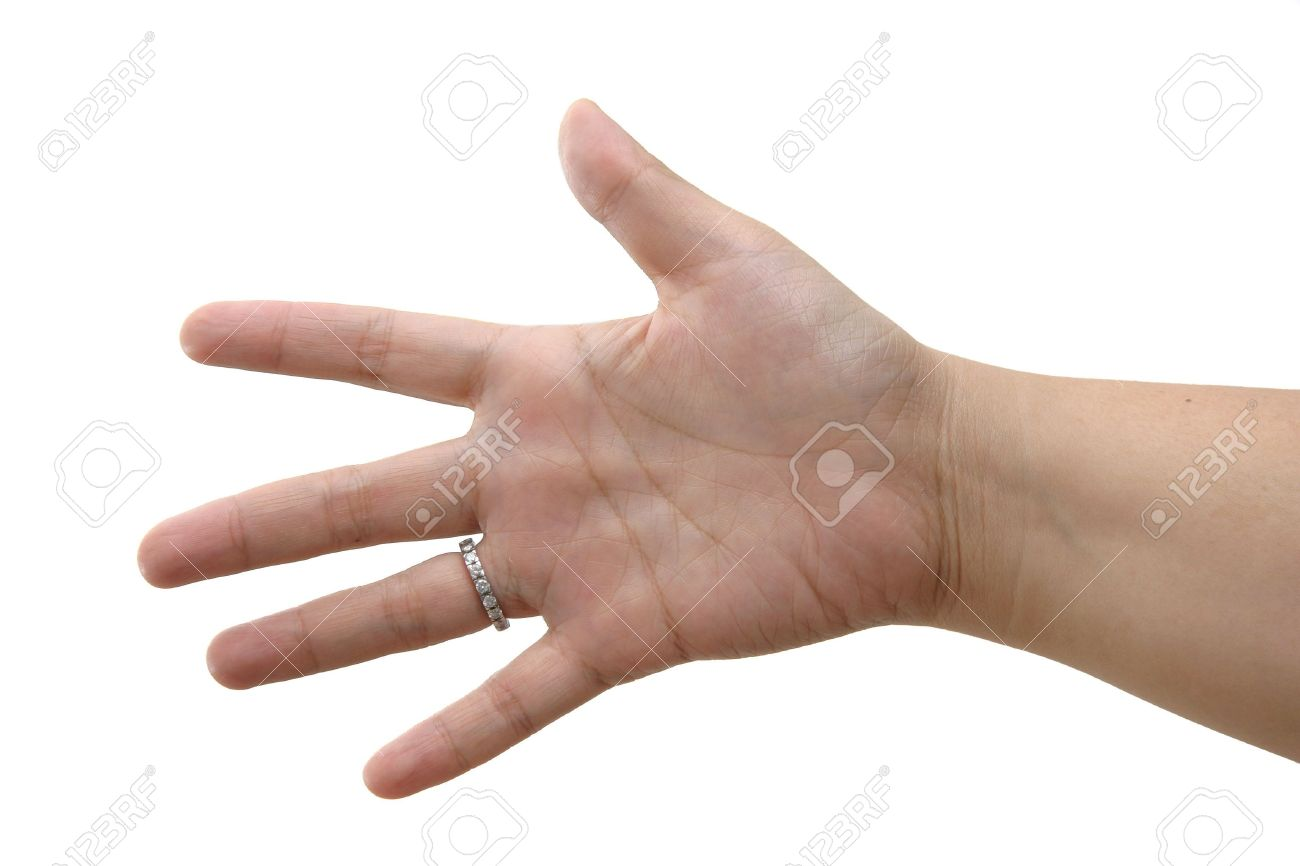finger: (133, 415, 513, 604), (204, 536, 543, 699), (160, 287, 510, 421), (356, 627, 610, 804)
